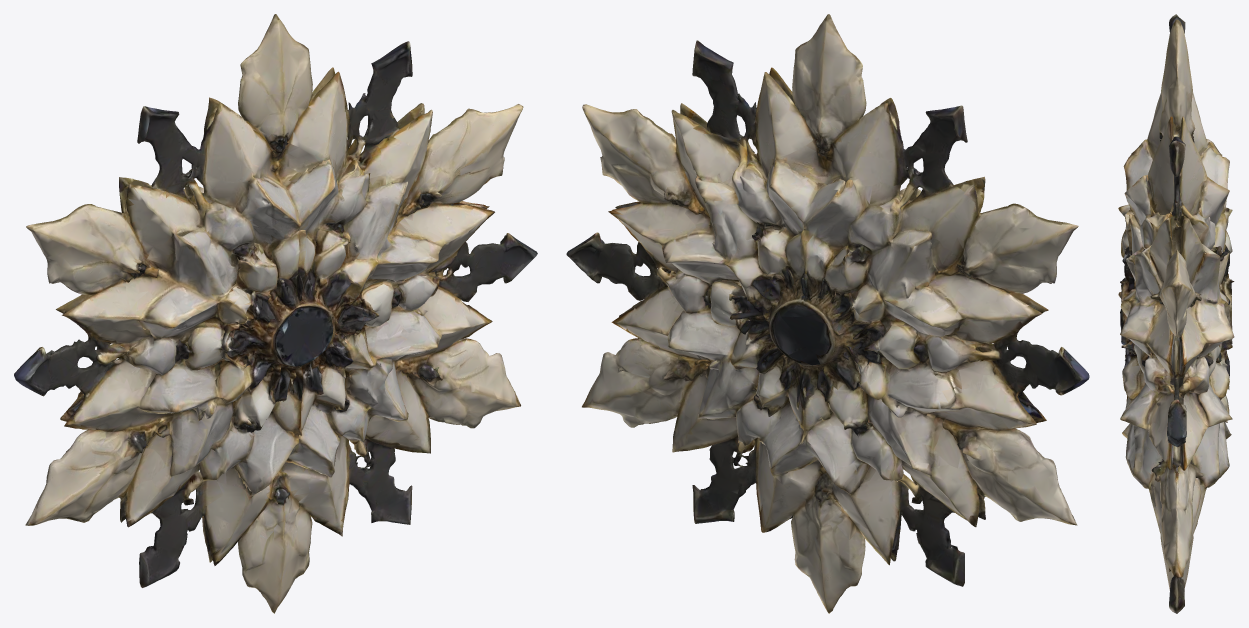
File: Yuki.glb
3 renders of one model, left to right at view 1: azimuth 30°, elevation 25°; view 2: azimuth 150°, elevation 25°; view 3: azimuth 270°, elevation 25°, orthographic. The views are drawn at different scales.
Parts seen in each view (by area): view 1: Yuki; view 2: Yuki; view 3: Yuki.
Boxes of the visible parts, x1,y1,x2,y2 form: Yuki: (14,14,537,613); Yuki: (566,14,1089,613); Yuki: (1118,14,1234,613).
Size of the model in its own units: 1.81 by 1.99 by 0.358.
1 material, 1 textured.
